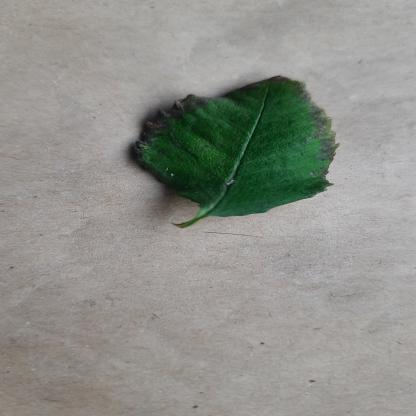powdery-mildew: (129, 74, 347, 216)
